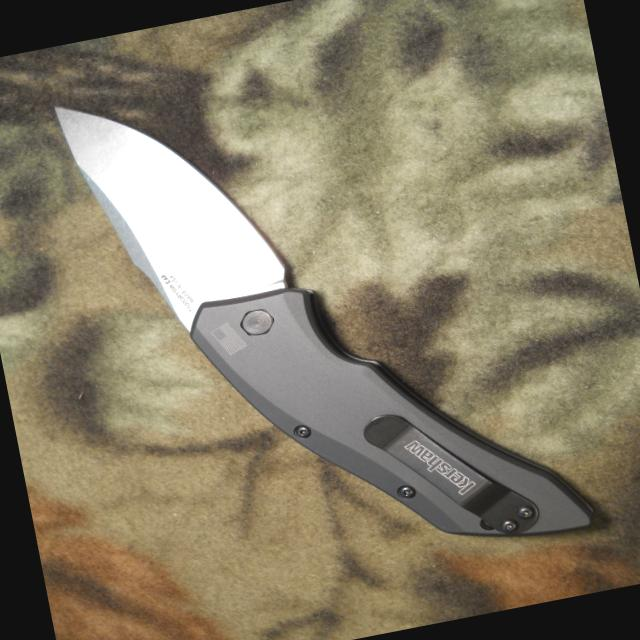knife: (35, 44, 315, 388)
